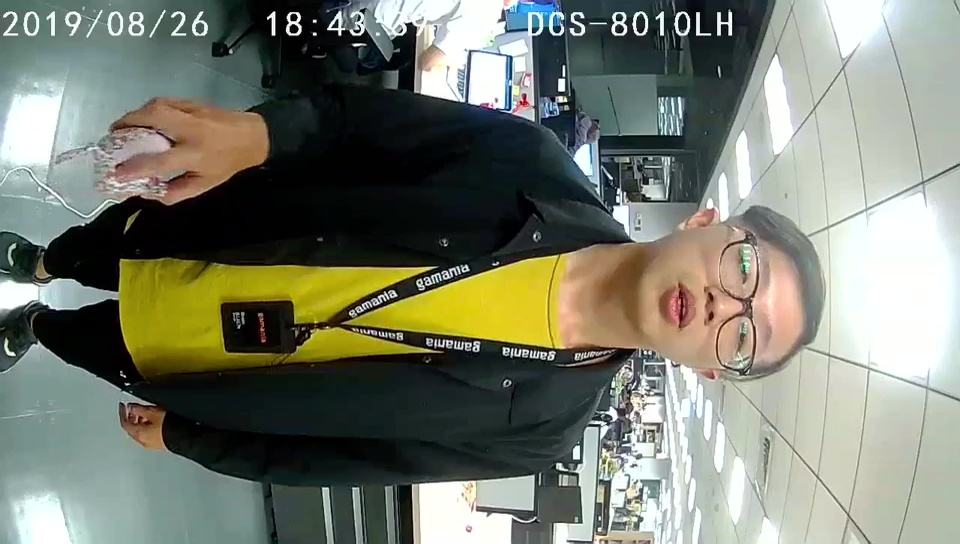pig: (96, 129, 171, 199)
